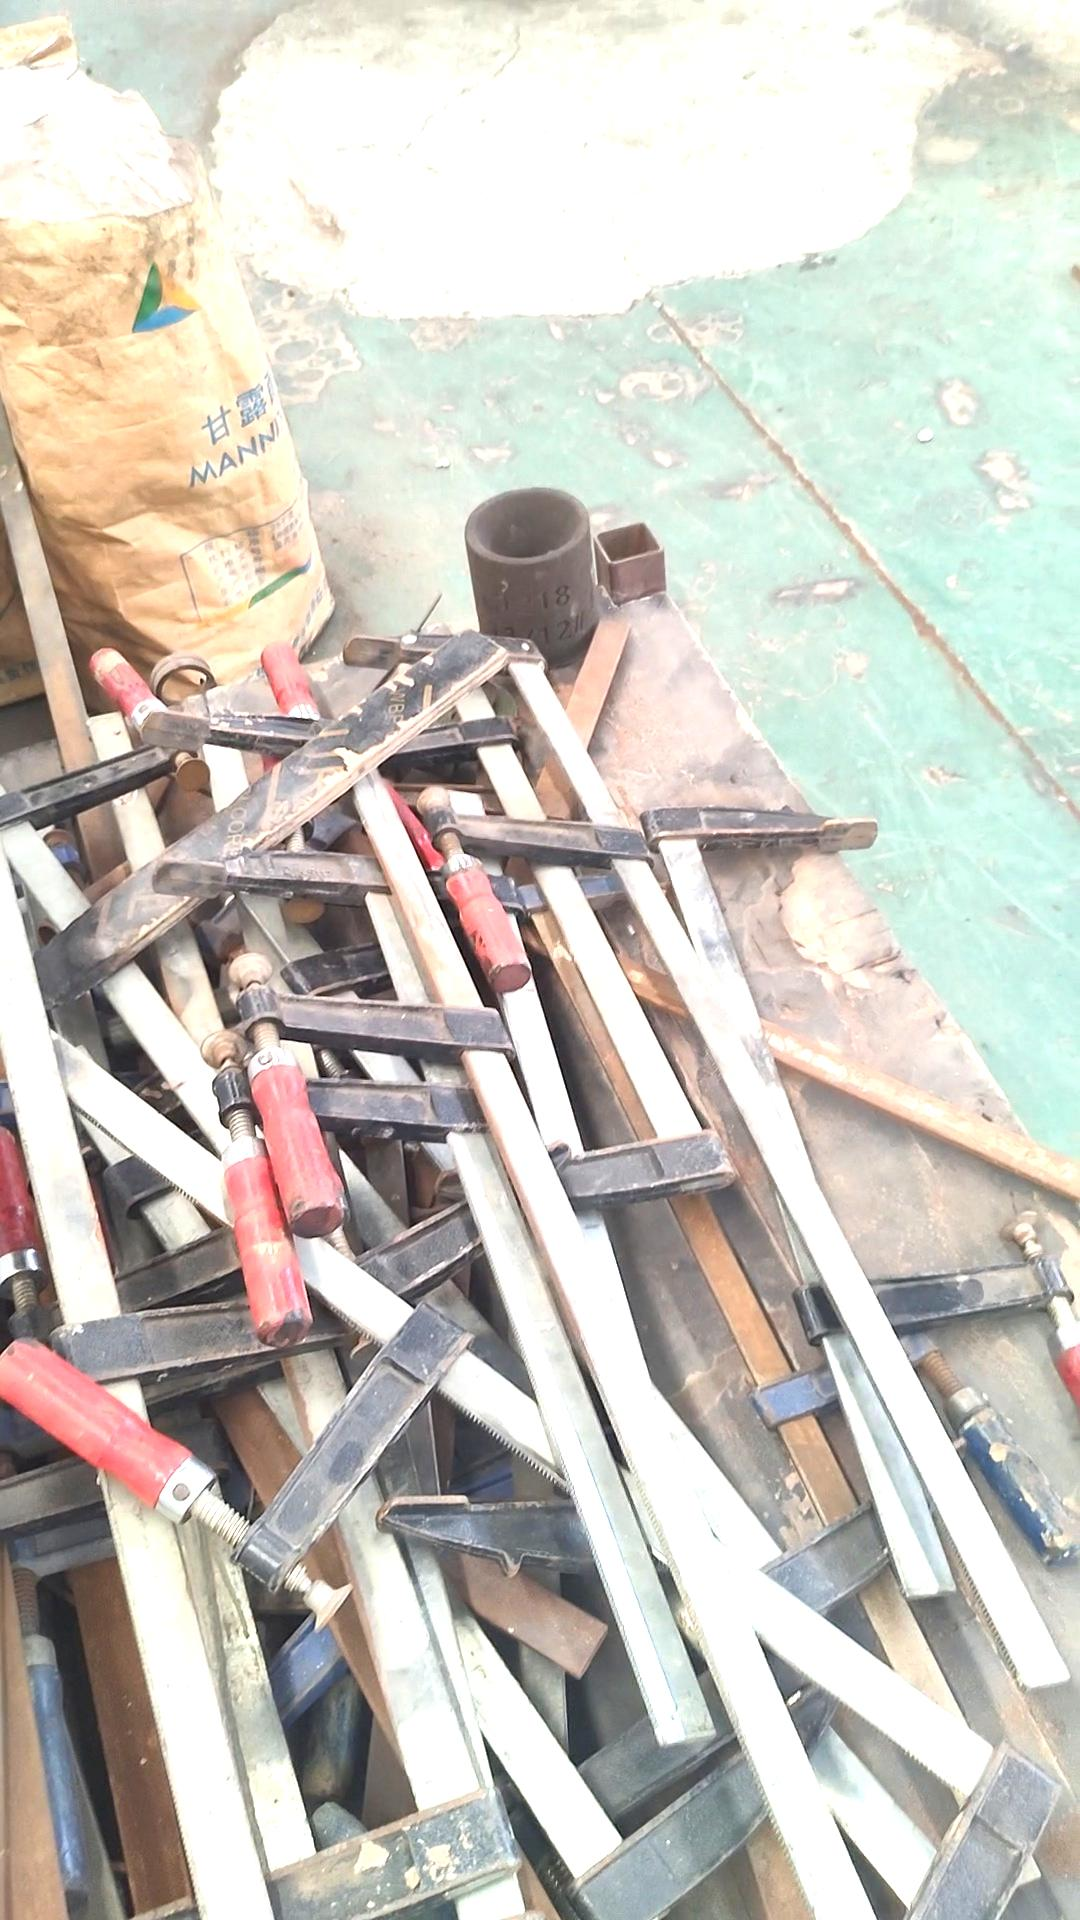pouring hole: (468, 487, 589, 563)
